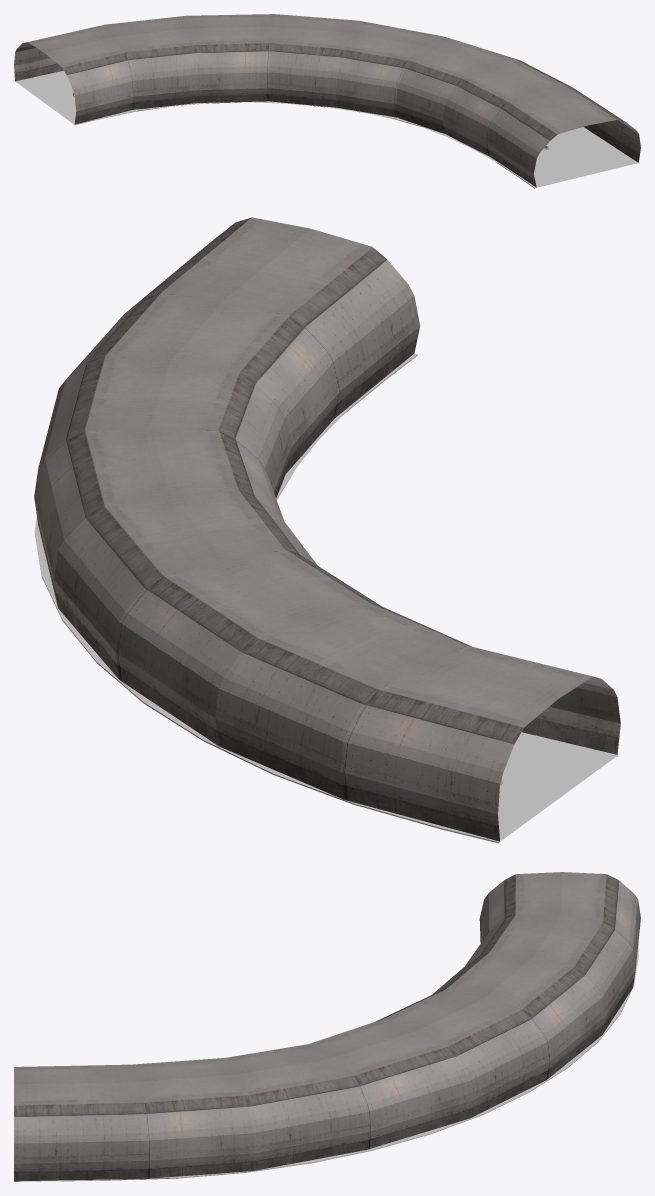
The model's file is underground_turn_90.fbx.
The picture shows the model from 3 angles, top to bottom: view 1: azimuth 30°, elevation 25°; view 2: azimuth 150°, elevation 25°; view 3: azimuth 270°, elevation 25°; orthographic projection. The views are drawn at different scales.
Parts seen in each view (by area): view 1: roads.016; view 2: roads.016; view 3: roads.016.
Boxes of the visible parts, x1,y1,x2,y2 form: roads.016: (14, 14, 640, 188); roads.016: (34, 217, 620, 843); roads.016: (14, 872, 640, 1181).
Size of the model in its own units: 15785 by 1991 by 17014.
